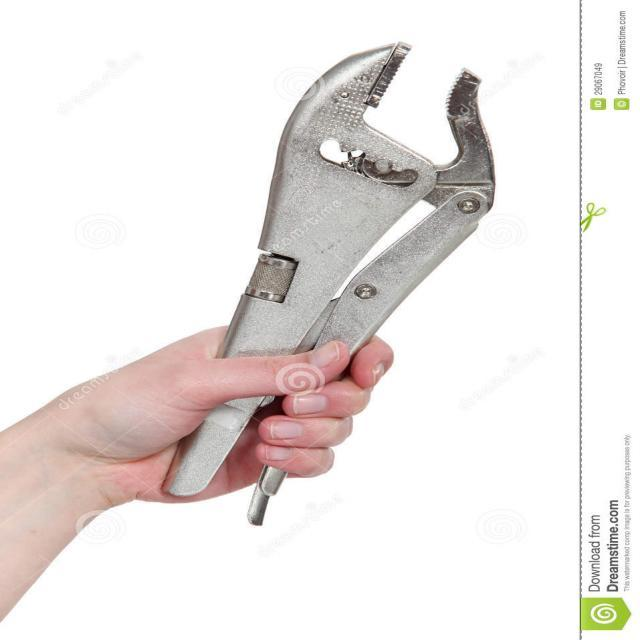wrench: (154, 39, 503, 531)
